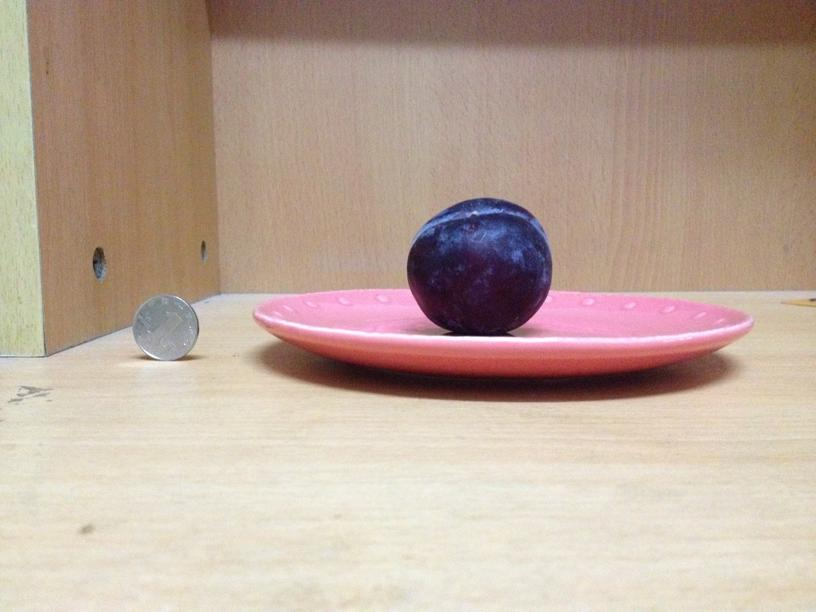coin: (129, 295, 199, 361)
plum: (395, 197, 554, 334)
